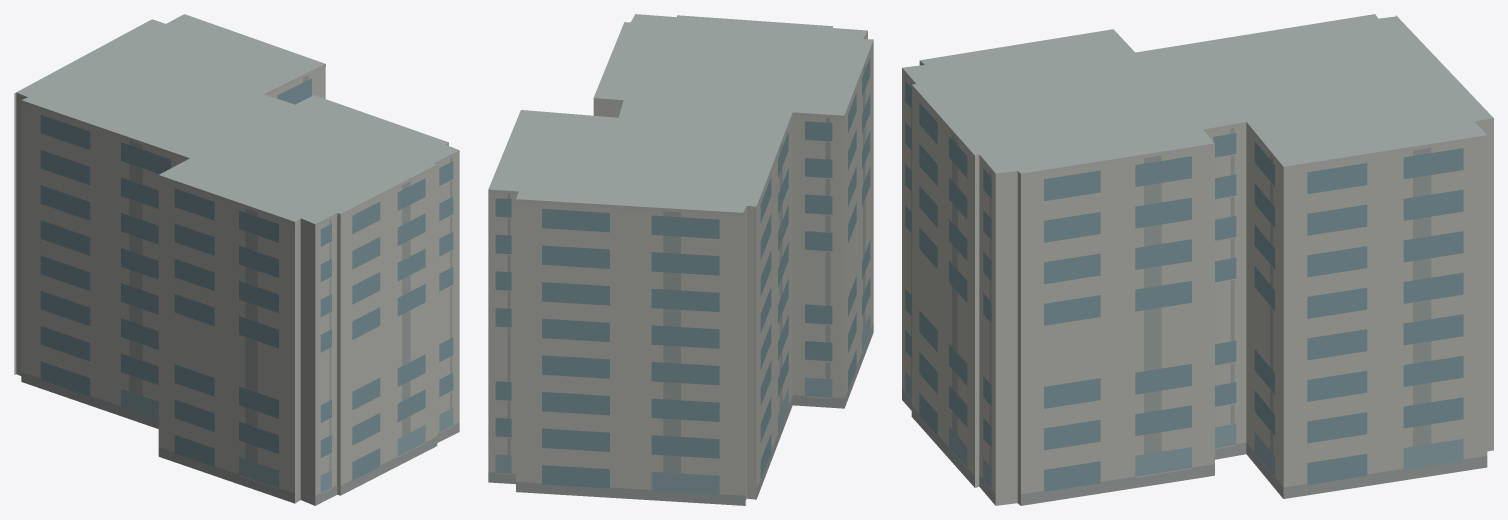
Rendered from survey-upis-32913300.glb.
The picture shows the model from 3 angles, left to right: view 1: azimuth 30°, elevation 25°; view 2: azimuth 150°, elevation 25°; view 3: azimuth 270°, elevation 25°; orthographic projection. The views are drawn at different scales.
Parts seen in each view (by area): view 1: survey-upis-32913300.tmp; view 2: survey-upis-32913300.tmp; view 3: survey-upis-32913300.tmp.
Boxes of the visible parts, x1,y1,x2,y2 form: survey-upis-32913300.tmp: [14, 14, 459, 505]; survey-upis-32913300.tmp: [488, 14, 873, 505]; survey-upis-32913300.tmp: [902, 14, 1493, 505].
Size of the model in its own units: 22.37 by 21.7 by 35.04.
